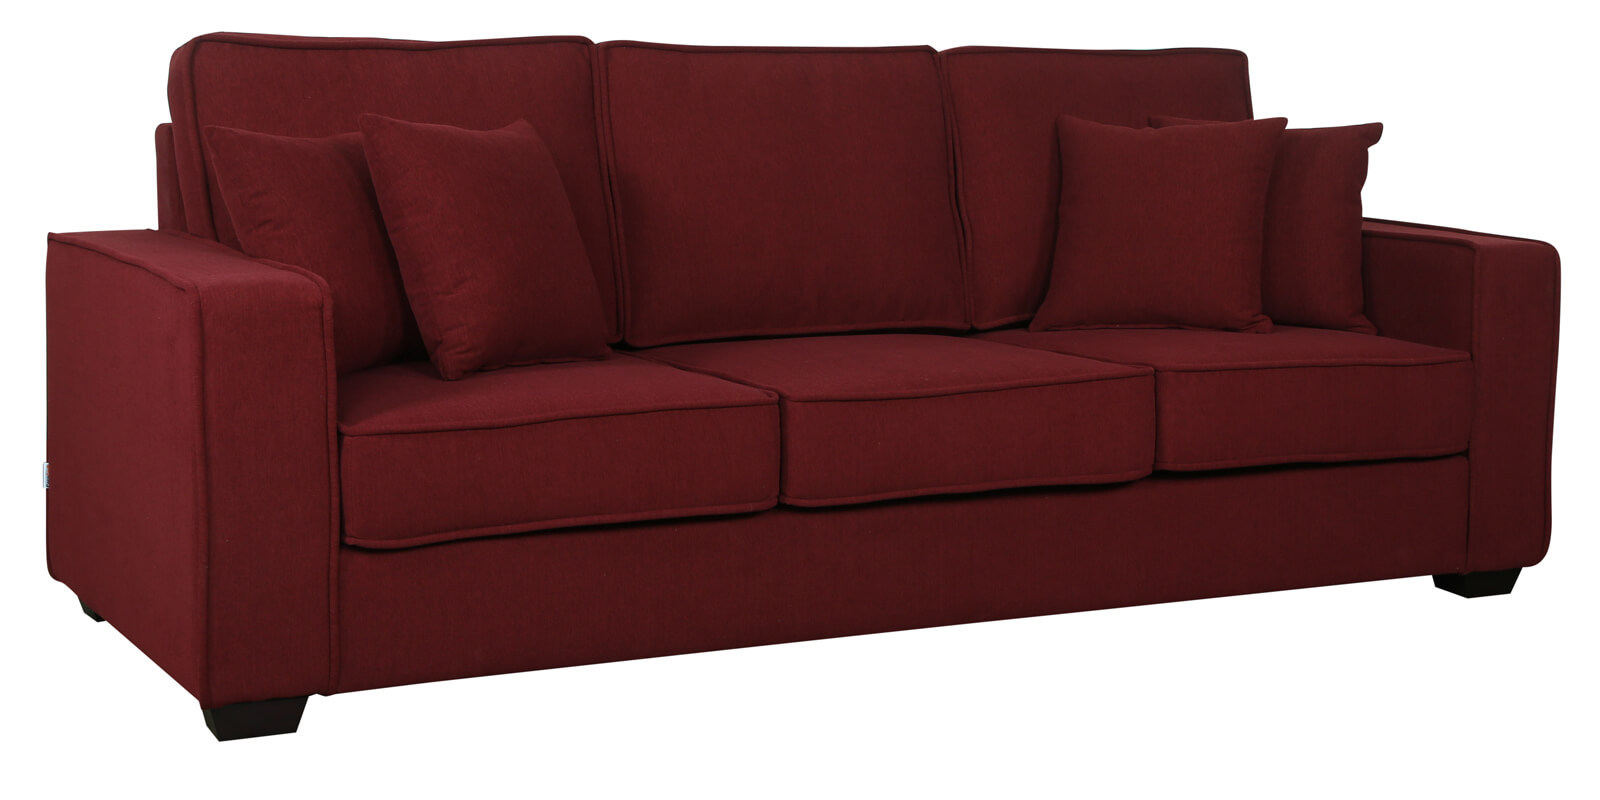Hugo Three Seater Sofa in Garnet Red Colour by CasaCraft: (39, 14, 1600, 763)
